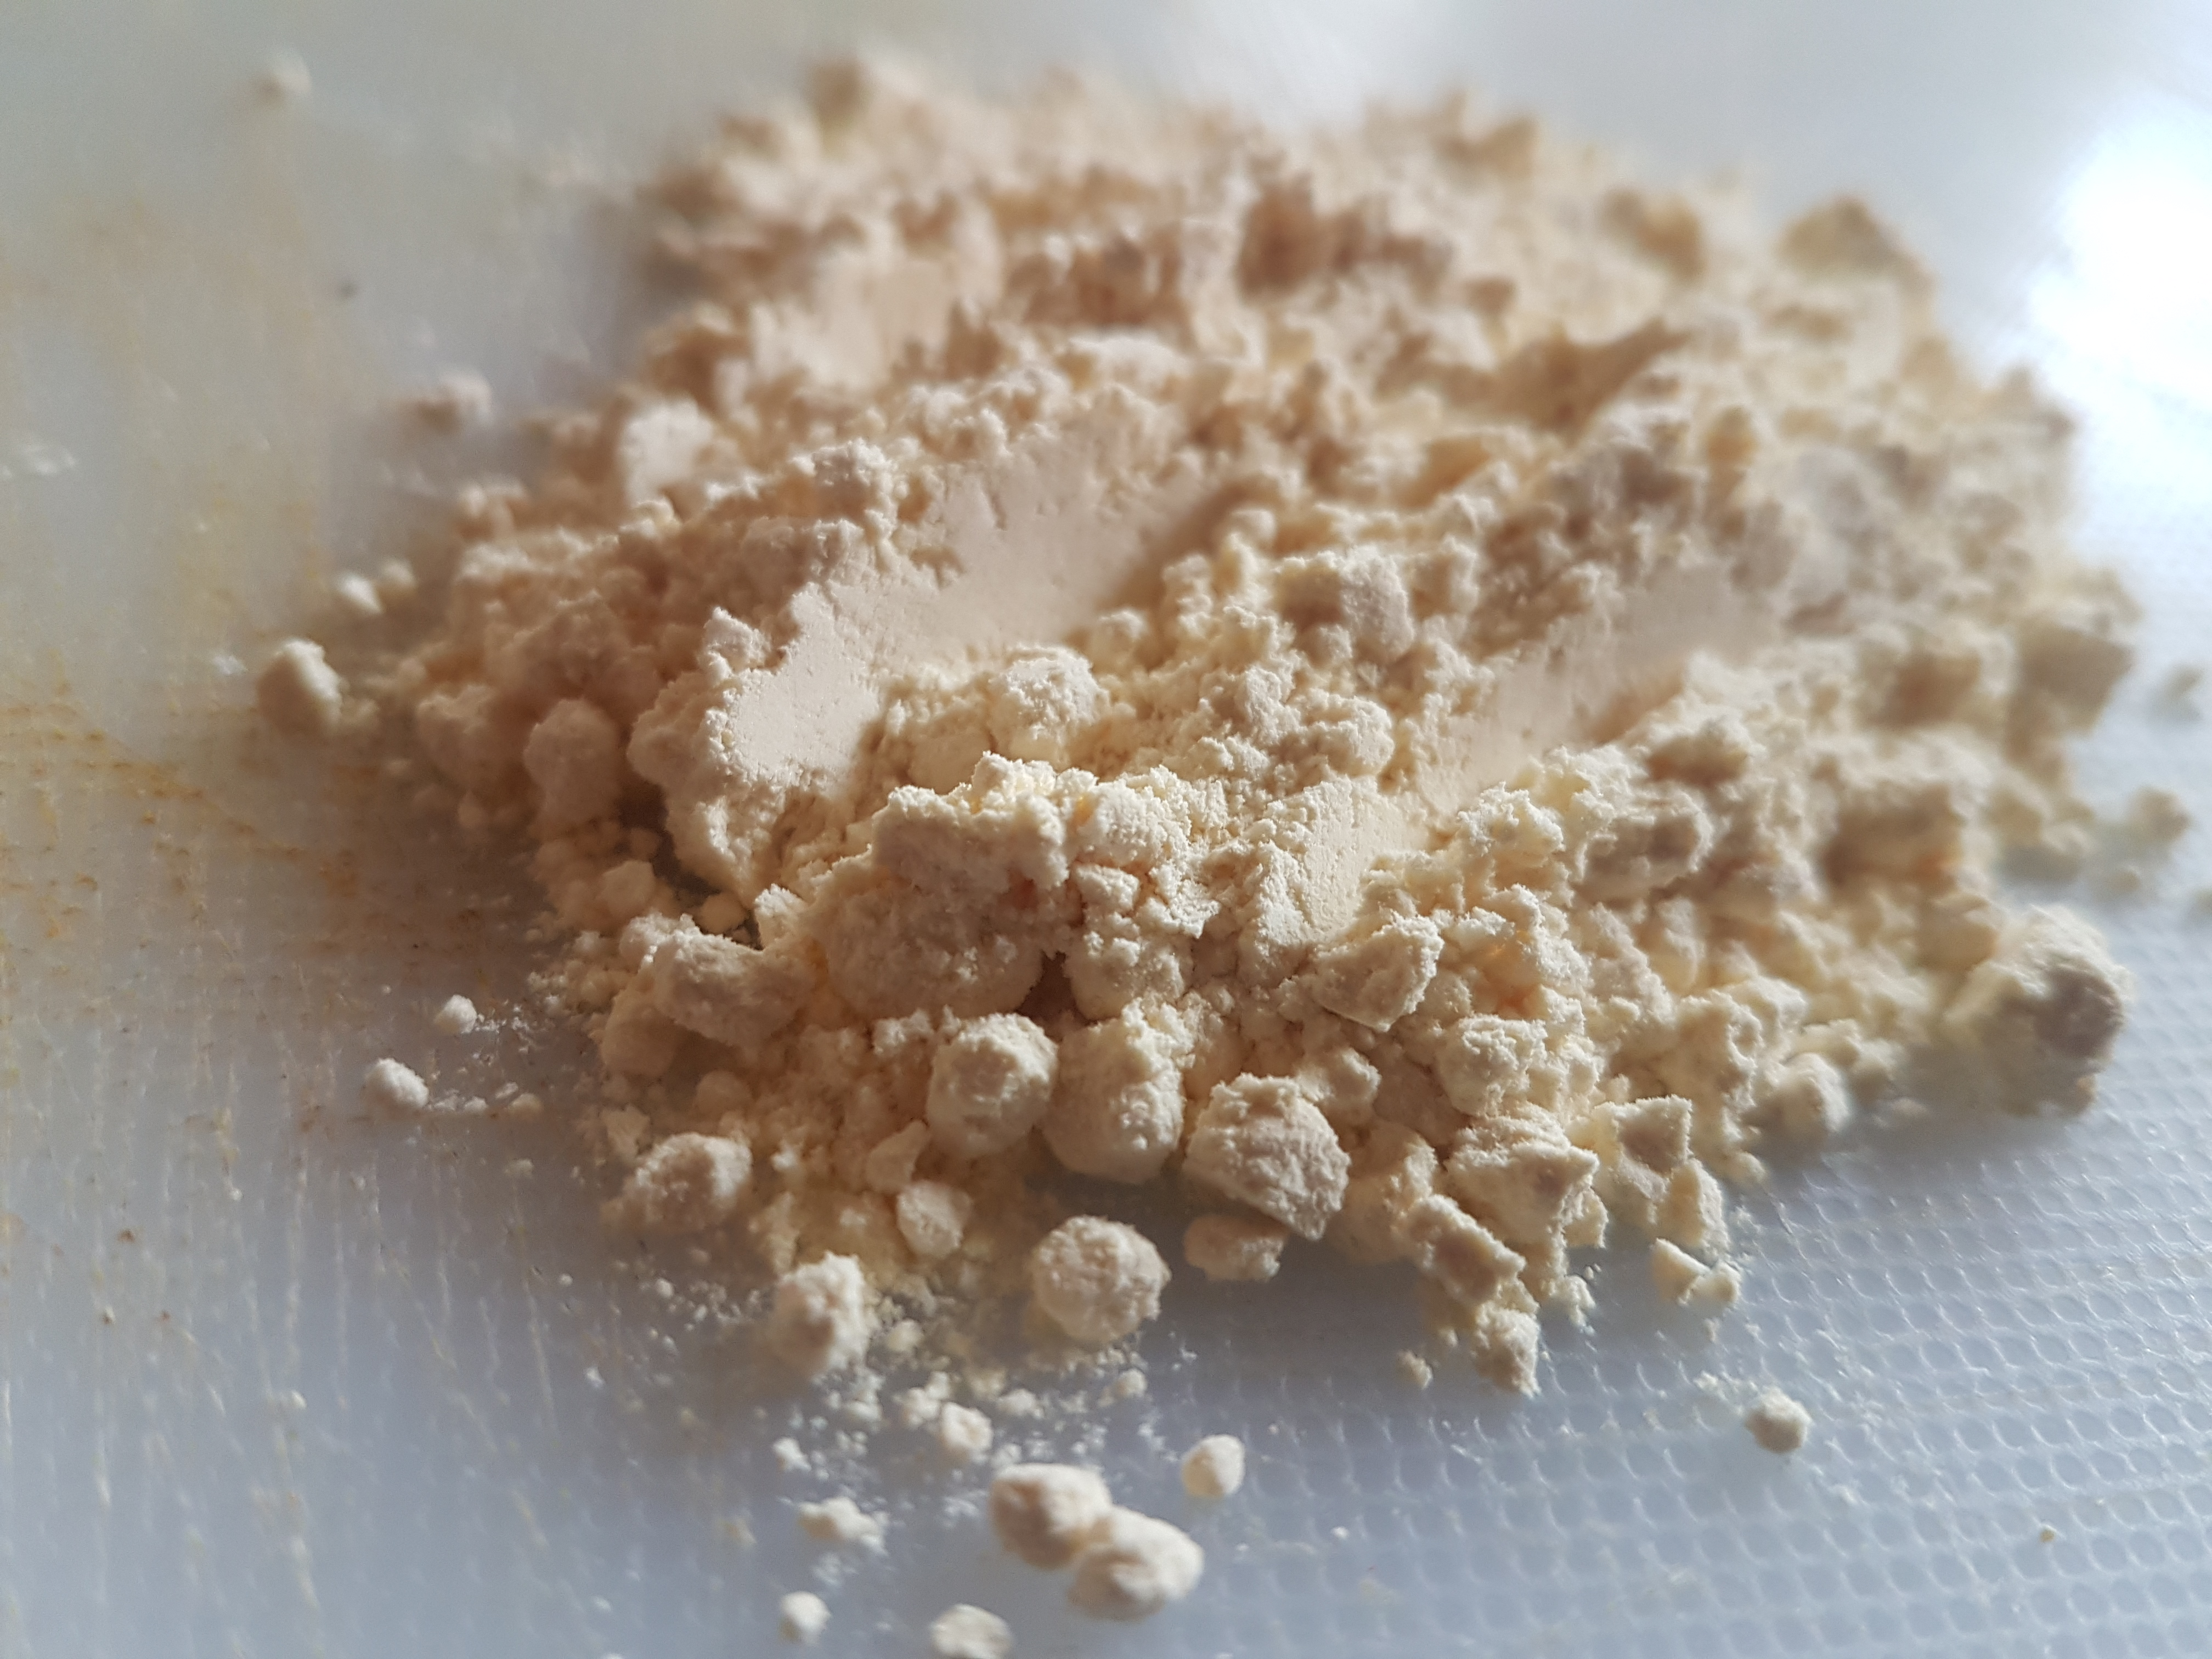Gram Flour: (153, 66, 2212, 1652)
